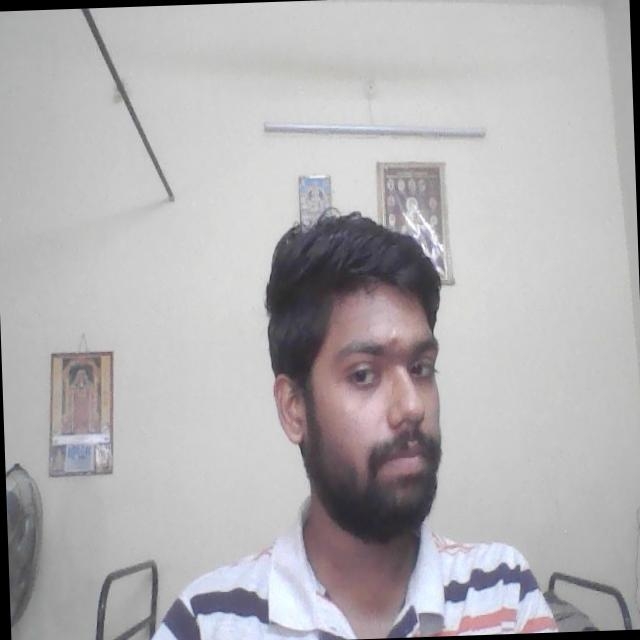Focused: (294, 290, 454, 506)
